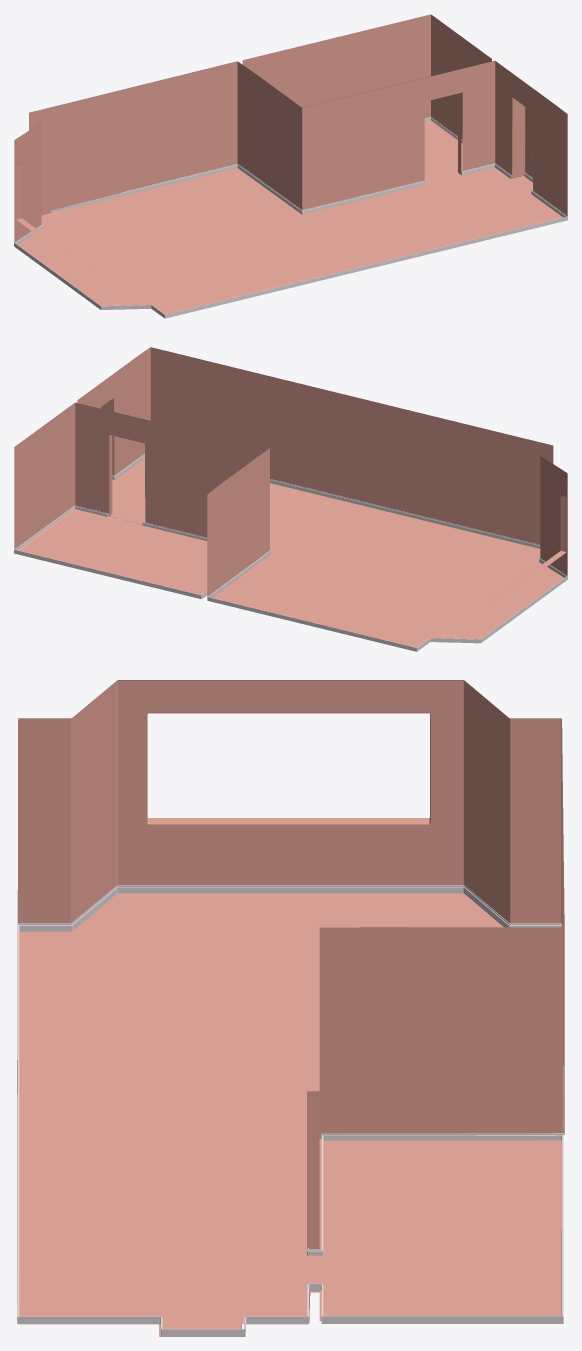
The model's file is quarto2.gltf.
3 renders of one model, top to bottom at view 1: azimuth 30°, elevation 25°; view 2: azimuth 150°, elevation 25°; view 3: azimuth 270°, elevation 25°, orthographic. The views are drawn at different scales.
Visible parts, largest first — view 1: paredes.003, Cube.002, Cube.006, Cube.012; view 2: paredes.003, Cube.002, Cube.006, Cube.012; view 3: paredes.003, Cube.002, Cube.006, Cube.012.
Part boxes in pixels (x1=…): paredes.003: x1=14, y1=60, x2=567, y2=314; Cube.002: x1=242, y1=14, x2=491, y2=183; Cube.006: x1=14, y1=118, x2=565, y2=318; Cube.012: x1=14, y1=117, x2=567, y2=318; paredes.003: x1=77, y1=347, x2=567, y2=647; Cube.002: x1=14, y1=402, x2=263, y2=598; Cube.006: x1=14, y1=455, x2=567, y2=651; Cube.012: x1=14, y1=454, x2=567, y2=651; paredes.003: x1=17, y1=680, x2=564, y2=1336; Cube.002: x1=307, y1=927, x2=563, y2=1321; Cube.006: x1=18, y1=887, x2=562, y2=1336; Cube.012: x1=17, y1=885, x2=563, y2=1336.
Size of what is drawn, in the model's own units: 12.62 by 2.78 by 6.48.
